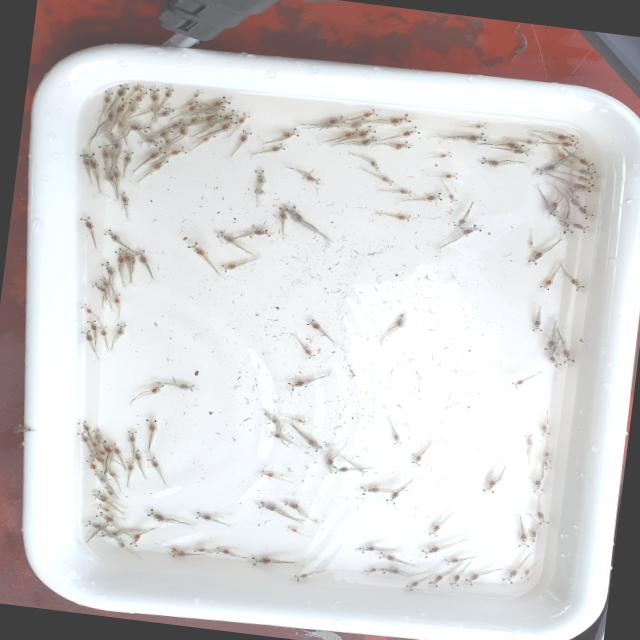babyshrimp: (283, 204, 319, 226), (564, 267, 590, 292), (534, 265, 557, 293), (531, 156, 560, 176), (143, 507, 179, 523), (183, 238, 211, 258), (564, 179, 598, 195), (565, 216, 592, 236), (383, 312, 407, 334), (286, 376, 321, 391), (301, 431, 324, 453), (427, 567, 450, 589), (83, 150, 103, 175), (524, 245, 546, 267), (572, 200, 596, 220), (509, 371, 533, 391), (500, 560, 519, 585), (383, 113, 414, 128), (117, 246, 137, 269), (569, 165, 599, 180), (383, 485, 404, 506), (392, 124, 421, 139), (303, 318, 330, 334), (561, 339, 577, 366), (380, 211, 413, 224), (542, 329, 559, 354), (353, 123, 379, 139), (419, 543, 445, 559), (214, 229, 237, 247), (297, 170, 324, 185), (261, 409, 281, 429), (92, 510, 117, 526), (145, 156, 170, 172), (132, 248, 151, 269), (249, 555, 285, 566), (101, 226, 123, 244), (160, 144, 188, 158), (274, 126, 302, 140), (77, 212, 94, 235), (452, 206, 467, 232), (82, 519, 109, 533), (114, 96, 132, 117), (218, 116, 239, 134), (255, 499, 284, 512), (535, 505, 552, 527), (461, 221, 484, 237), (216, 260, 242, 274), (317, 114, 350, 125), (142, 418, 160, 438), (354, 484, 384, 496), (95, 439, 112, 460), (549, 140, 581, 151), (206, 96, 233, 109), (137, 384, 166, 396), (513, 138, 544, 149), (97, 260, 114, 280), (545, 198, 562, 218), (257, 467, 285, 479), (548, 346, 562, 370), (530, 469, 544, 493), (404, 576, 425, 592), (343, 117, 371, 129), (574, 155, 596, 170), (353, 459, 371, 477), (128, 446, 144, 466), (275, 204, 291, 224), (243, 227, 272, 238), (388, 140, 414, 152), (553, 130, 577, 143), (561, 213, 574, 237), (501, 147, 532, 157), (123, 124, 153, 134), (252, 167, 267, 187), (458, 132, 488, 142), (481, 474, 496, 494), (427, 517, 441, 538), (355, 544, 384, 554), (106, 441, 124, 457), (132, 88, 148, 106), (569, 172, 593, 184), (193, 510, 219, 521), (517, 527, 530, 549), (377, 564, 403, 575), (145, 455, 160, 474), (115, 190, 130, 209), (120, 149, 135, 168), (462, 572, 481, 587), (213, 545, 241, 555), (97, 144, 111, 164), (354, 107, 379, 118), (278, 499, 299, 512), (531, 312, 544, 333), (127, 532, 144, 548), (112, 323, 128, 340), (299, 344, 316, 360), (409, 450, 425, 467), (74, 418, 92, 433), (92, 469, 110, 484), (95, 275, 113, 290), (90, 279, 109, 293), (100, 88, 114, 107), (77, 303, 99, 315), (377, 552, 403, 562), (84, 318, 99, 335), (160, 85, 175, 102), (265, 142, 288, 153), (266, 429, 287, 441), (219, 107, 240, 119), (478, 157, 506, 166), (325, 451, 337, 472), (78, 151, 91, 170), (539, 416, 550, 438), (124, 429, 139, 445), (367, 157, 382, 173), (380, 173, 395, 189), (419, 192, 443, 202), (73, 430, 90, 444), (147, 87, 160, 105), (92, 502, 111, 514), (522, 432, 534, 451), (449, 569, 461, 588), (171, 383, 196, 392), (80, 329, 94, 345), (189, 88, 206, 101), (237, 129, 254, 142), (431, 149, 453, 159), (97, 324, 109, 342), (157, 126, 175, 138), (527, 526, 539, 544), (114, 84, 129, 98), (291, 571, 310, 582), (395, 188, 414, 199), (91, 493, 108, 505), (519, 564, 531, 581), (167, 550, 192, 558), (289, 415, 307, 426), (391, 428, 402, 446), (330, 465, 352, 474), (441, 557, 463, 566), (83, 457, 97, 471), (437, 172, 460, 180), (240, 109, 251, 125), (159, 106, 175, 117), (447, 188, 458, 204), (284, 523, 301, 533), (14, 423, 31, 433), (467, 121, 488, 129), (125, 461, 136, 476), (526, 234, 536, 250), (541, 447, 551, 463), (362, 566, 378, 576), (93, 489, 109, 498), (189, 547, 210, 553), (542, 461, 553, 471)
